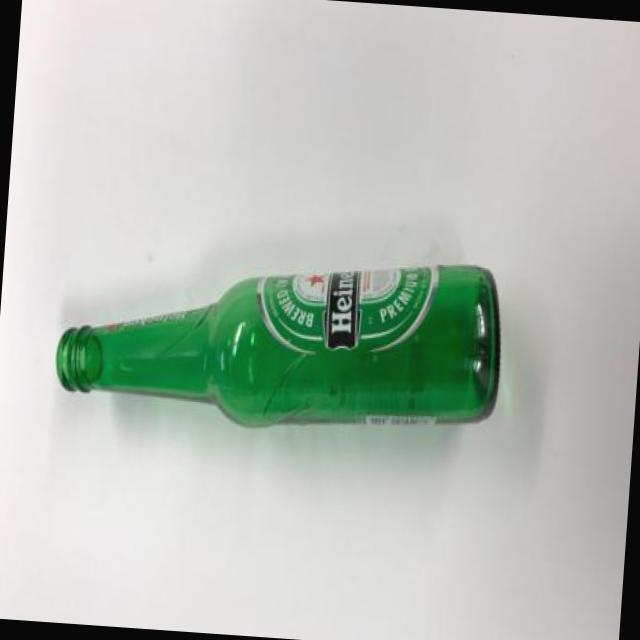chai_thuy_tinh: (53, 264, 501, 429)
